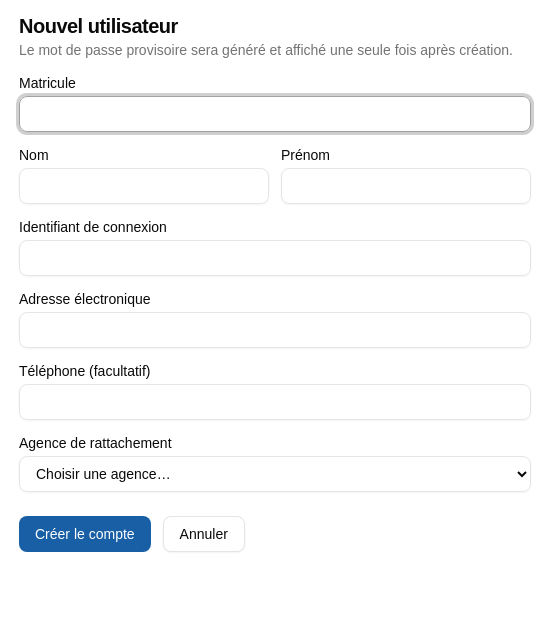
Test: PageCreationUtilisateur › 422 : signale des informations invalides
Type "MAT-001" into the field labelled "Matricule" at (275, 114), box left=19, top=96, right=531, bottom=132
Type "Diallo" into the field labelled "Nom" at (144, 186), box left=19, top=168, right=269, bottom=204
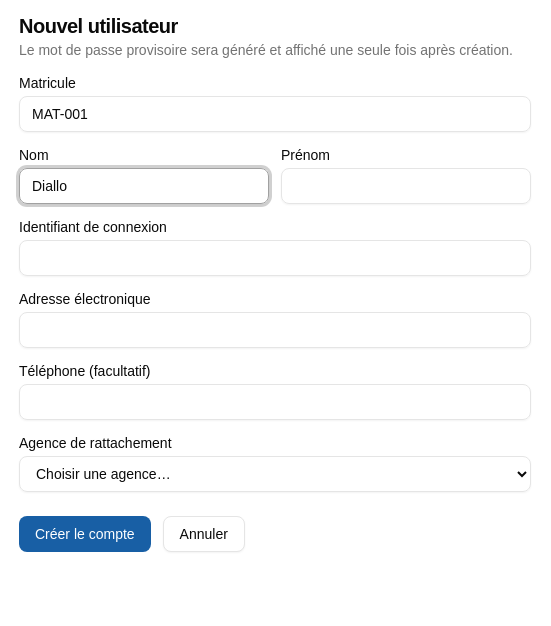
Type "Amadou" into the field labelled "Prénom" at (406, 186), box left=281, top=168, right=531, bottom=204
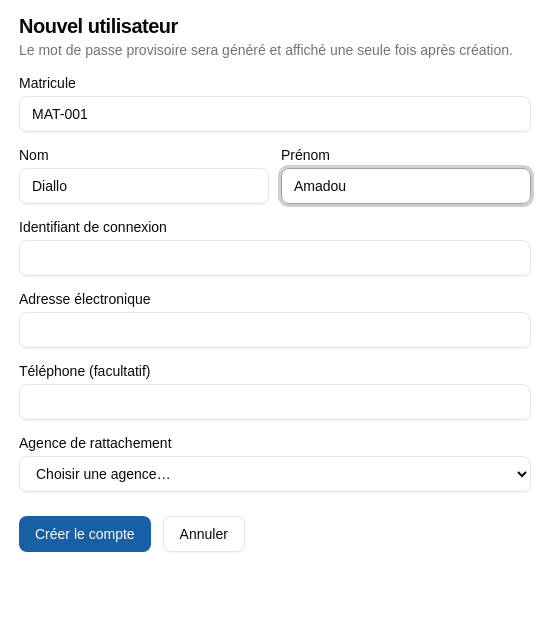
Type "adiallo" into the field labelled "Identifiant de connexion" at (275, 258), box left=19, top=240, right=531, bottom=276
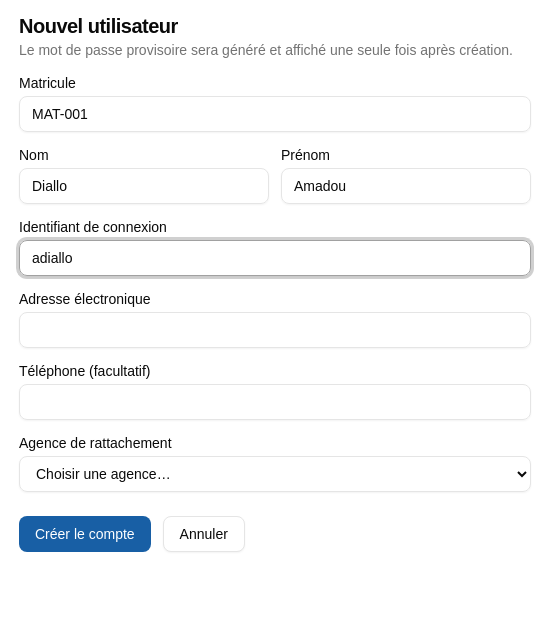
Type "a.diallo@imf.local" into the field labelled "Adresse électronique" at (275, 330), box left=19, top=312, right=531, bottom=348
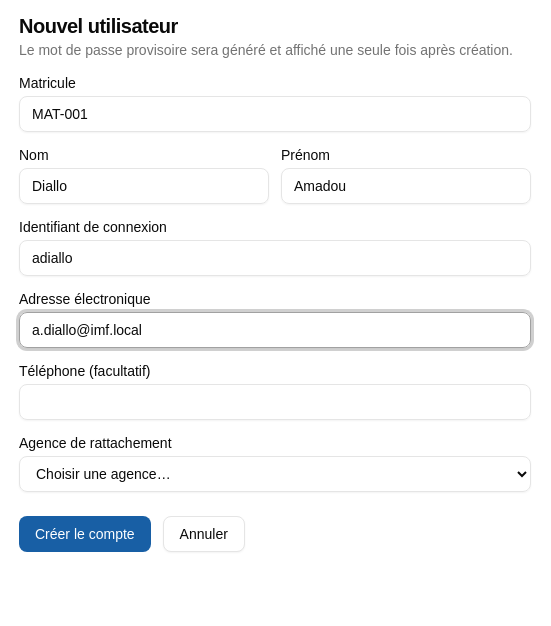
Select "Siège" in the dropdown labelled "Agence de rattachement" at (275, 474), box left=19, top=456, right=531, bottom=492
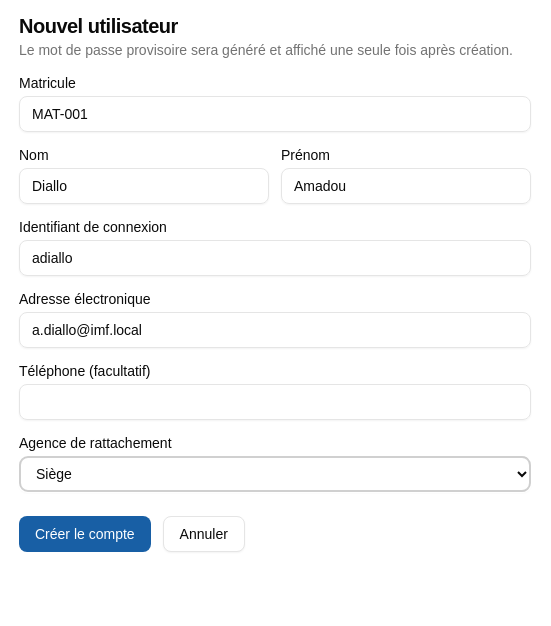
Click the button "Créer le compte" at (85, 534), box left=19, top=516, right=151, bottom=552
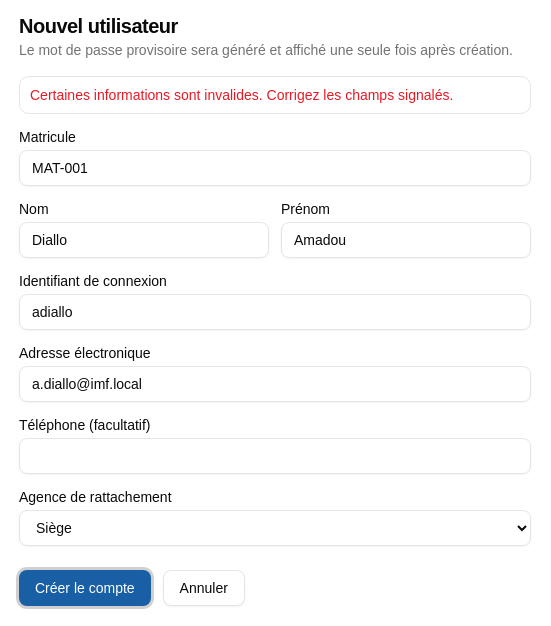
Now the message shows "invalides", box left=30, top=87, right=453, bottom=103
